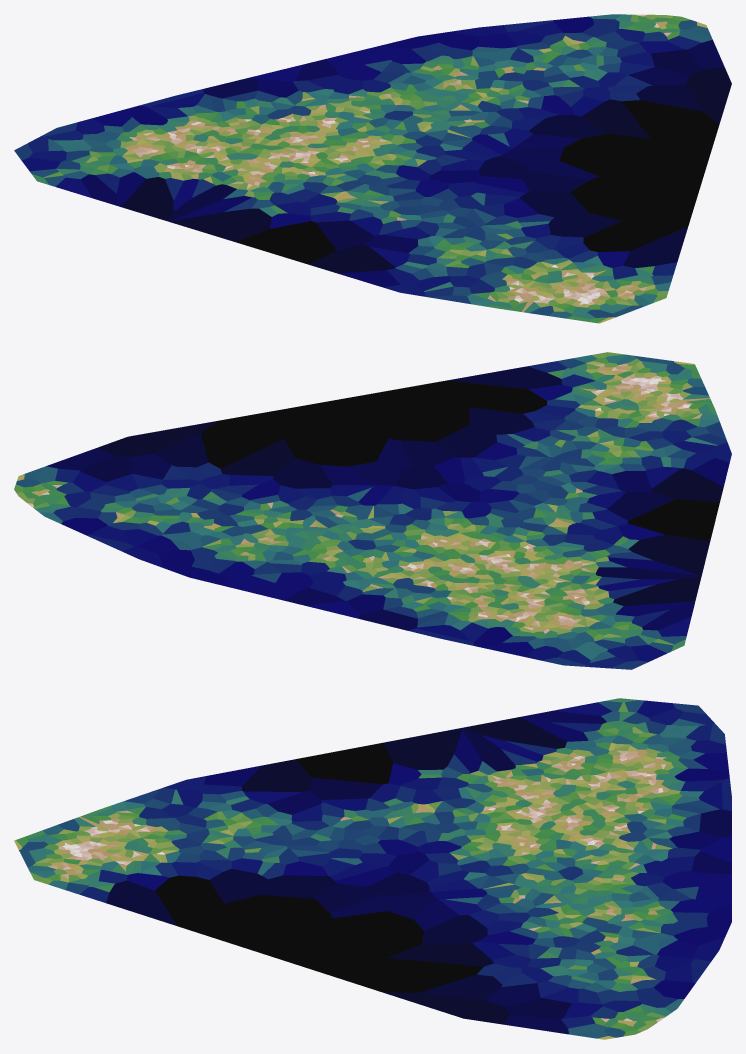
Rendered from 'pca5_voronoi.gltf.
3 renders of one model, top to bottom at view 1: azimuth 30°, elevation 25°; view 2: azimuth 150°, elevation 25°; view 3: azimuth 270°, elevation 25°, orthographic. The views are drawn at different scales.
Visible parts, largest first — view 1: Renderer Node; view 2: Renderer Node; view 3: Renderer Node.
Boxes of the visible parts, box(x1,y1,x2,y2) form: Renderer Node: box(14, 14, 731, 323); Renderer Node: box(14, 352, 731, 669); Renderer Node: box(14, 698, 731, 1039).
Size of the model in its own units: 1 by 0 by 0.8882.
Materials: 1 (1 with a texture image).
